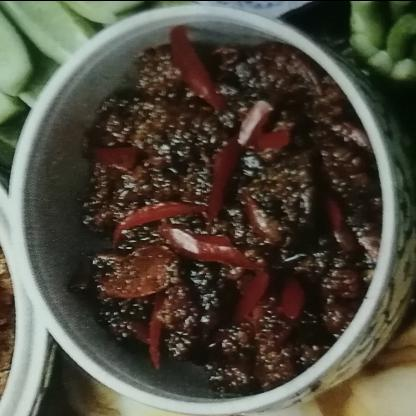Namprig: (39, 22, 380, 382)
